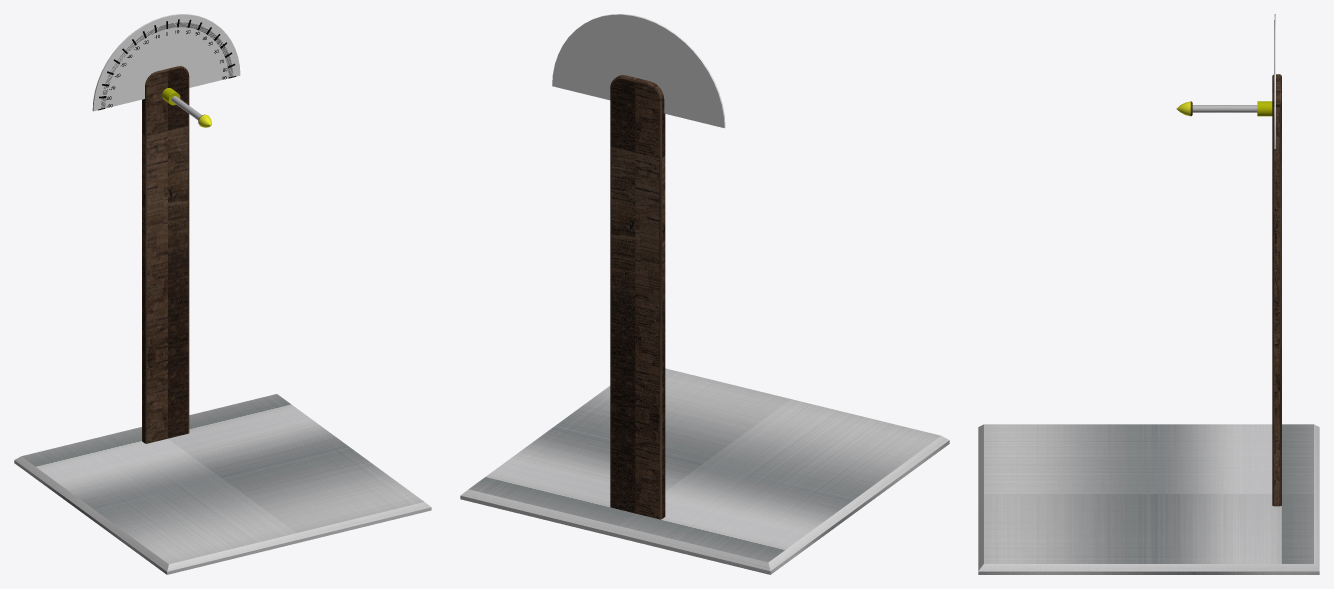
File: Soporte.fbx
3 views of the same model, side by side, from view 1: azimuth 30°, elevation 25°; view 2: azimuth 150°, elevation 25°; view 3: azimuth 270°, elevation 25° (orthographic). The views are drawn at different scales.
Visible parts, largest first — view 1: Soporte:mesh4Saliente_Extruir2, Soporte:mesh3Saliente_Extruir5, Soporte:mesh1, Soporte:mesh2Saliente_Extruir4; view 2: Soporte:mesh4Saliente_Extruir2, Soporte:mesh3Saliente_Extruir5, Soporte:mesh1; view 3: Soporte:mesh4Saliente_Extruir2, Soporte:mesh3Saliente_Extruir5, Soporte:mesh6Saliente_Extruir5face.
Part boxes in pixels (x1,y1,x2,y2): Soporte:mesh4Saliente_Extruir2: [14, 394, 431, 574]; Soporte:mesh3Saliente_Extruir5: [142, 66, 204, 443]; Soporte:mesh1: [92, 14, 240, 111]; Soporte:mesh2Saliente_Extruir4: [98, 19, 236, 110]; Soporte:mesh4Saliente_Extruir2: [460, 368, 949, 574]; Soporte:mesh3Saliente_Extruir5: [610, 75, 665, 519]; Soporte:mesh1: [552, 14, 725, 128]; Soporte:mesh4Saliente_Extruir2: [978, 424, 1319, 574]; Soporte:mesh3Saliente_Extruir5: [1190, 74, 1281, 506]; Soporte:mesh6Saliente_Extruir5face: [1192, 105, 1257, 112].
Size of the model in its own units: 0.9 by 1.39 by 0.9.
7 materials, 2 textured.
